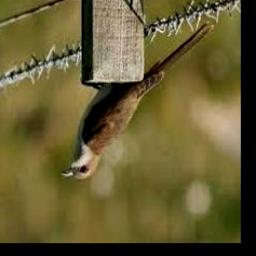Cuckoo: (60, 23, 213, 179)
